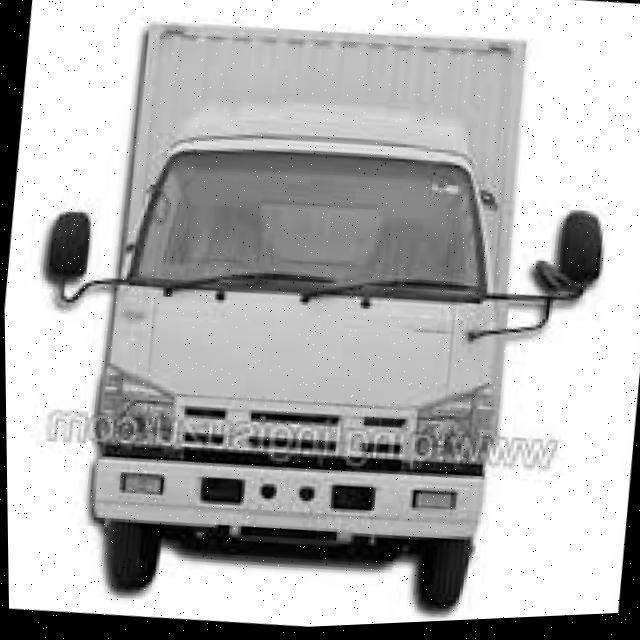truck: (1, 1, 640, 619)
